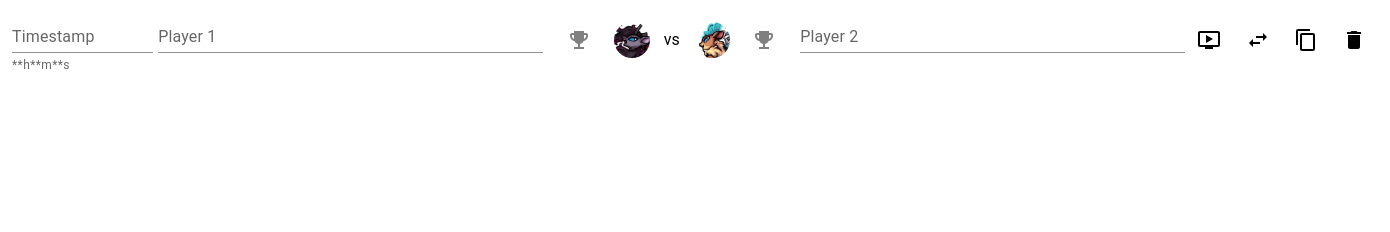
TimestampRow › shows a list of existing players when the user enters a player name
Click the dropdown labelled "Player 1". click: [336, 36]
box: [158,21,513,52]
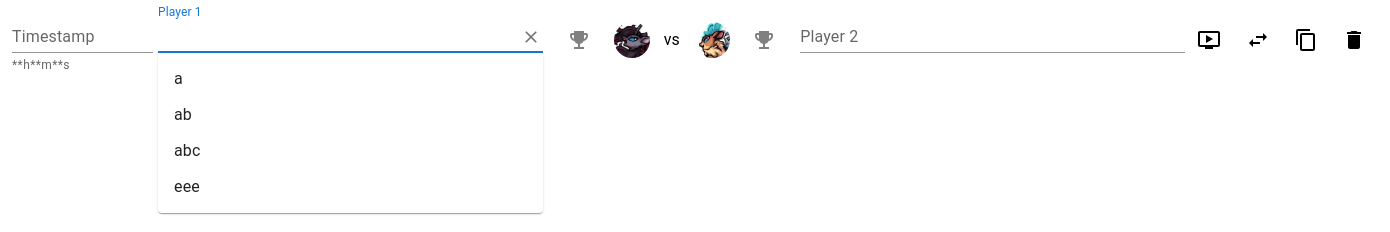
Expected: the option "a" is shown, [174,69,183,88]
Expected: the option "ab" is shown, [174,105,192,124]
Expected: the option "abc" is shown, [174,141,200,160]
